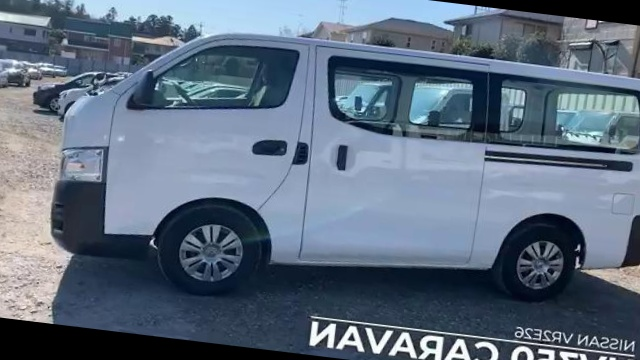van: (40, 6, 640, 346)
